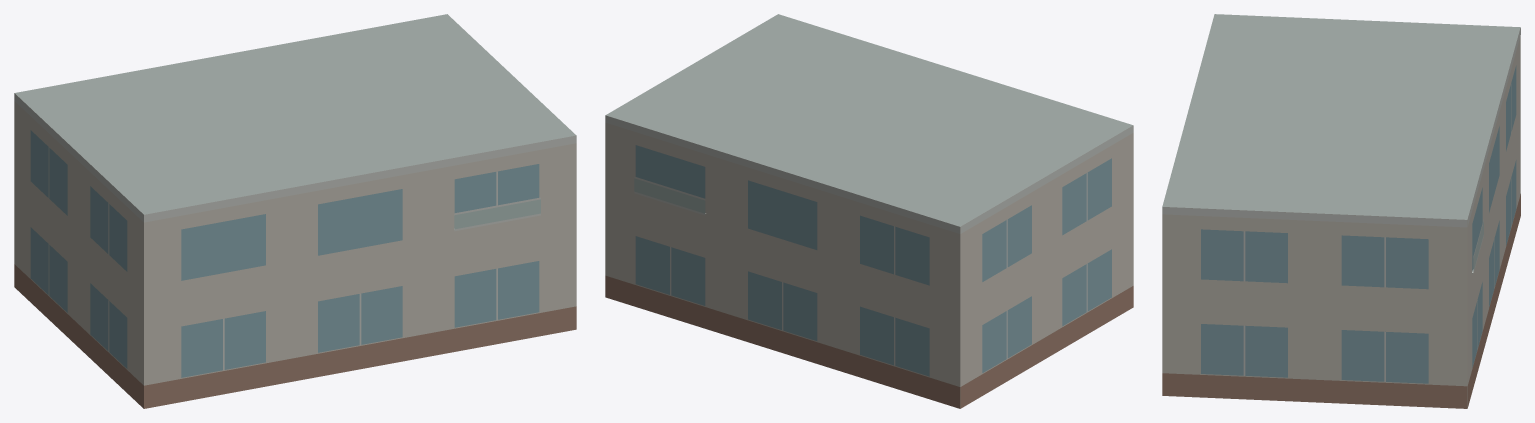
Rendered from survey-upis-33036928.glb.
The picture shows the model from 3 angles, left to right: view 1: azimuth 30°, elevation 25°; view 2: azimuth 150°, elevation 25°; view 3: azimuth 270°, elevation 25°; orthographic projection. The views are drawn at different scales.
Parts seen in each view (by area): view 1: survey-upis-33036928.tmp; view 2: survey-upis-33036928.tmp; view 3: survey-upis-33036928.tmp.
Part boxes in pixels (bbox=[...]): survey-upis-33036928.tmp: bbox=[14, 14, 576, 408]; survey-upis-33036928.tmp: bbox=[605, 14, 1133, 408]; survey-upis-33036928.tmp: bbox=[1162, 14, 1520, 408].
Size of the model in its own units: 14.26 by 6.1 by 10.5.
